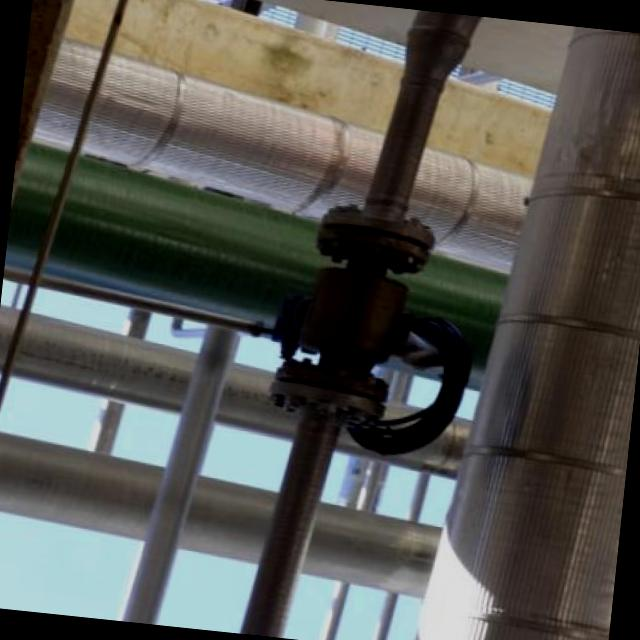gas: (242, 9, 482, 637), (416, 24, 640, 640), (5, 141, 502, 389), (0, 303, 472, 479), (0, 429, 440, 593), (121, 333, 238, 624)
